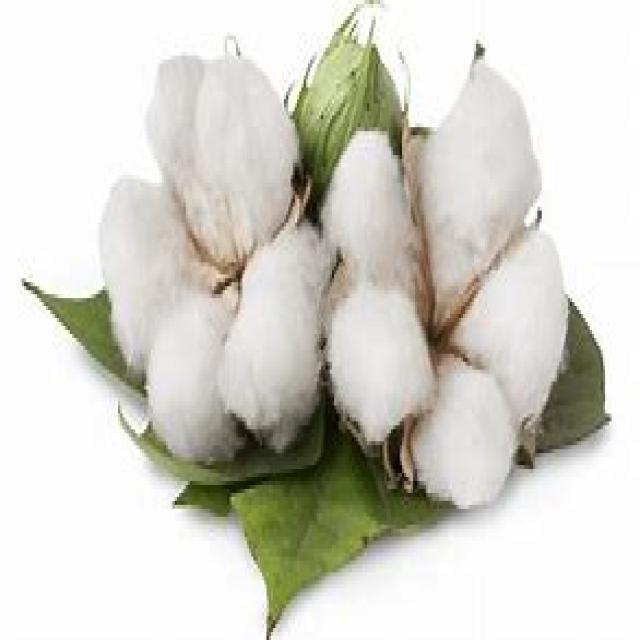Early Boll: (284, 10, 412, 192)
Matured Cotton Boll: (314, 49, 572, 521), (99, 42, 327, 469)
